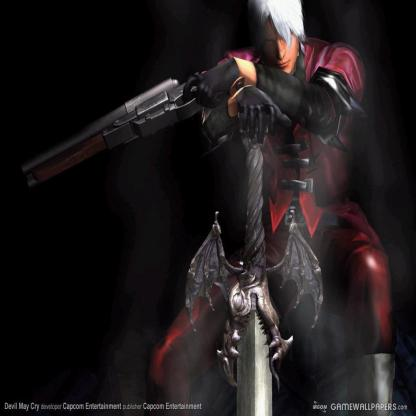Handgun: (21, 75, 202, 189)
